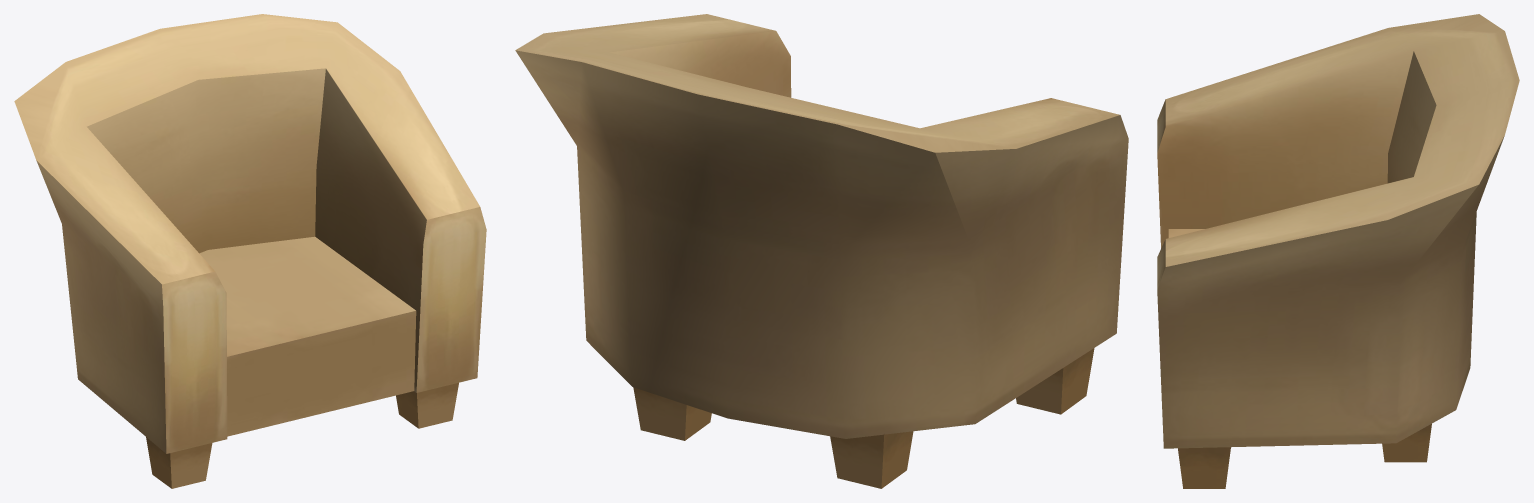
File: sofa2.fbx
The picture shows the model from 3 angles, left to right: view 1: azimuth 30°, elevation 25°; view 2: azimuth 150°, elevation 25°; view 3: azimuth 270°, elevation 25°; orthographic projection. The views are drawn at different scales.
Parts seen in each view (by area): view 1: sofa2; view 2: sofa2; view 3: sofa2.
Part boxes in pixels (x1,y1,x2,y2): sofa2: (14,14,486,488); sofa2: (515,14,1128,488); sofa2: (1157,14,1519,488).
Size of the model in its own units: 8.29 by 6.77 by 6.62.
